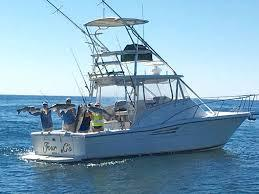fishing boat: (16, 1, 259, 165)
